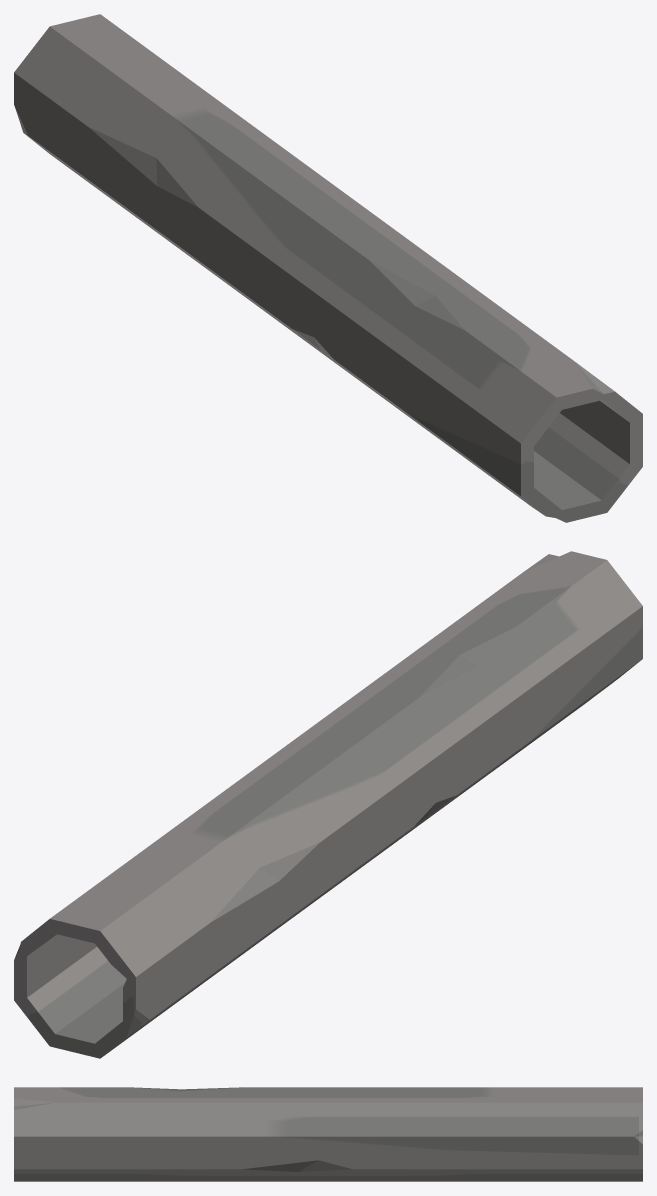
File: SM_Prop_Pipe_Concrete_01.fbx
3 renders of one model, top to bottom at view 1: azimuth 30°, elevation 25°; view 2: azimuth 150°, elevation 25°; view 3: azimuth 270°, elevation 25°, orthographic. The views are drawn at different scales.
Visible parts, largest first — view 1: SM_Prop_Pipe_Concrete_01; view 2: SM_Prop_Pipe_Concrete_01; view 3: SM_Prop_Pipe_Concrete_01.
Boxes of the visible parts, x1,y1,x2,y2 form: SM_Prop_Pipe_Concrete_01: (14,14,642,522); SM_Prop_Pipe_Concrete_01: (14,551,642,1058); SM_Prop_Pipe_Concrete_01: (14,1087,642,1181).
Size of the model in its own units: 78.42 by 78.42 by 565.
